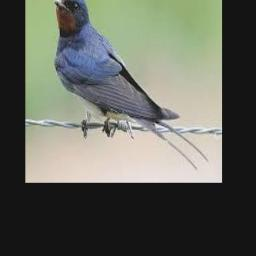Swallow: (54, 0, 209, 170)
